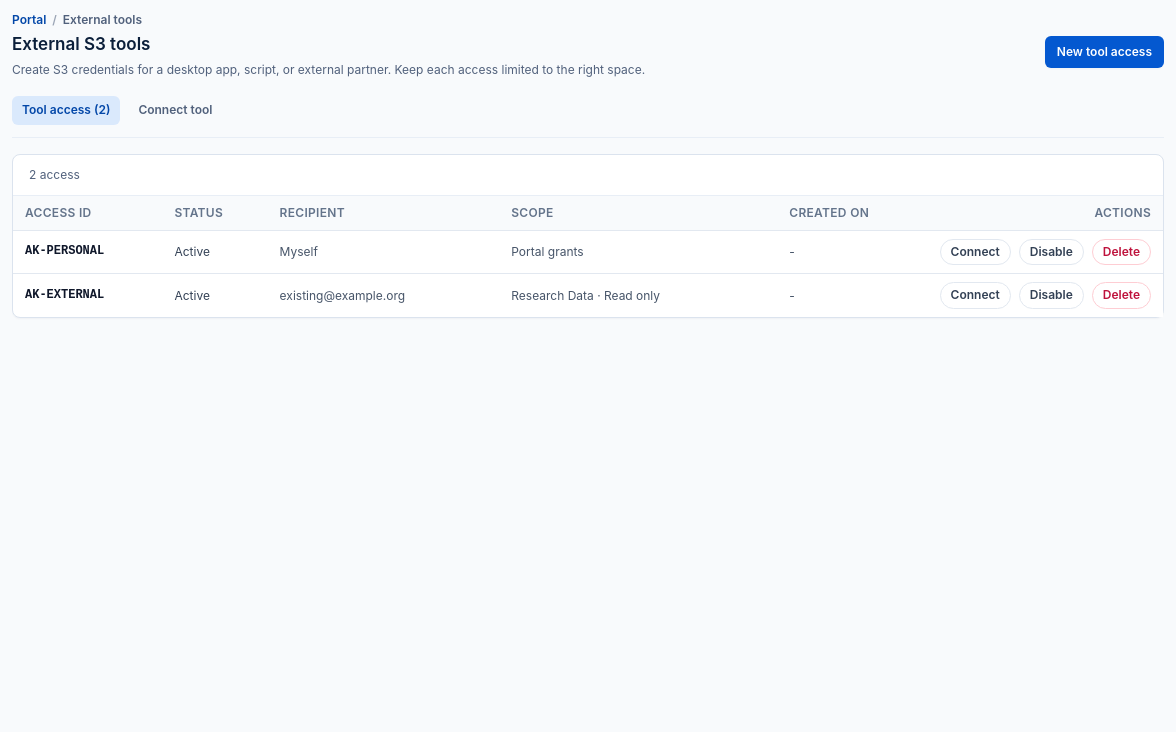
PortalAccessKeysPage › limits only the personal IAM user when the create workflow opens
Click the button "New tool access" at {"x": 1104, "y": 52}, box [1045, 36, 1164, 68]
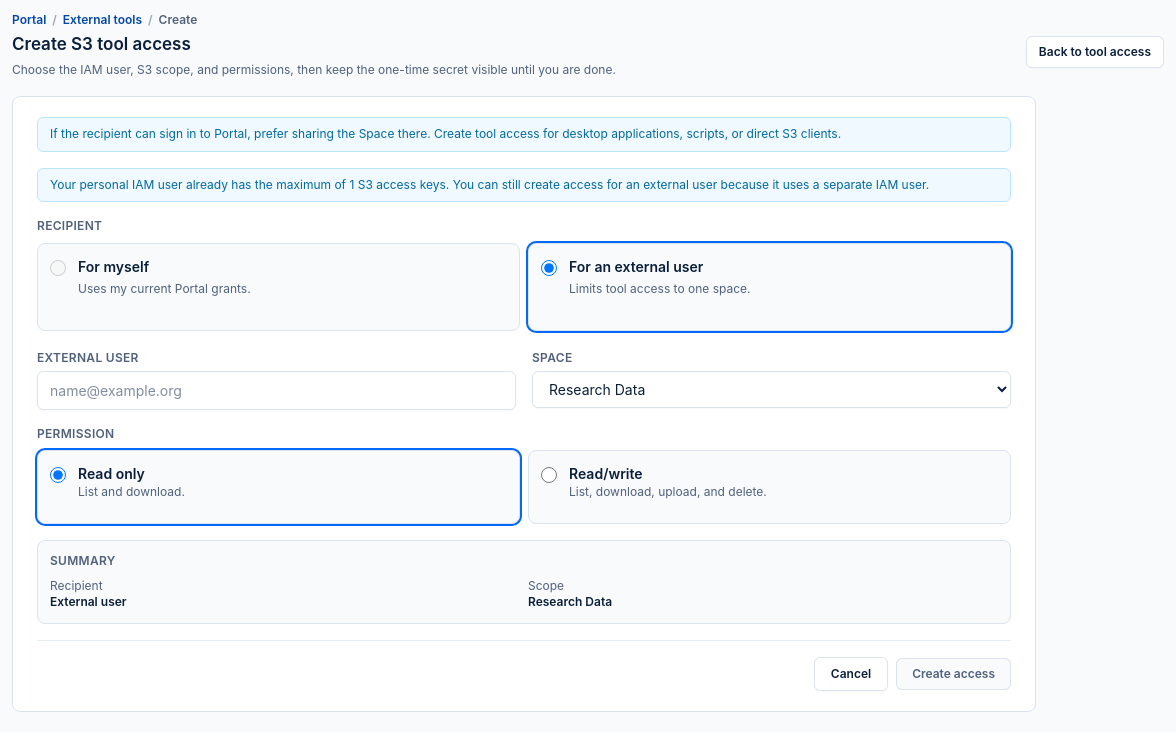
Now the radio button labelled "For myself" is disabled, box [50, 260, 66, 276]
Now the radio button labelled "For an external user" is checked, box [541, 260, 557, 276]
Now the text "personal IAM user already has the maximum of 1 S3 access keys" is shown, box [50, 176, 929, 192]
Type "new-partner@example.org" into the field with placeholder "name@example.org" at {"x": 276, "y": 390}, box [37, 370, 516, 410]
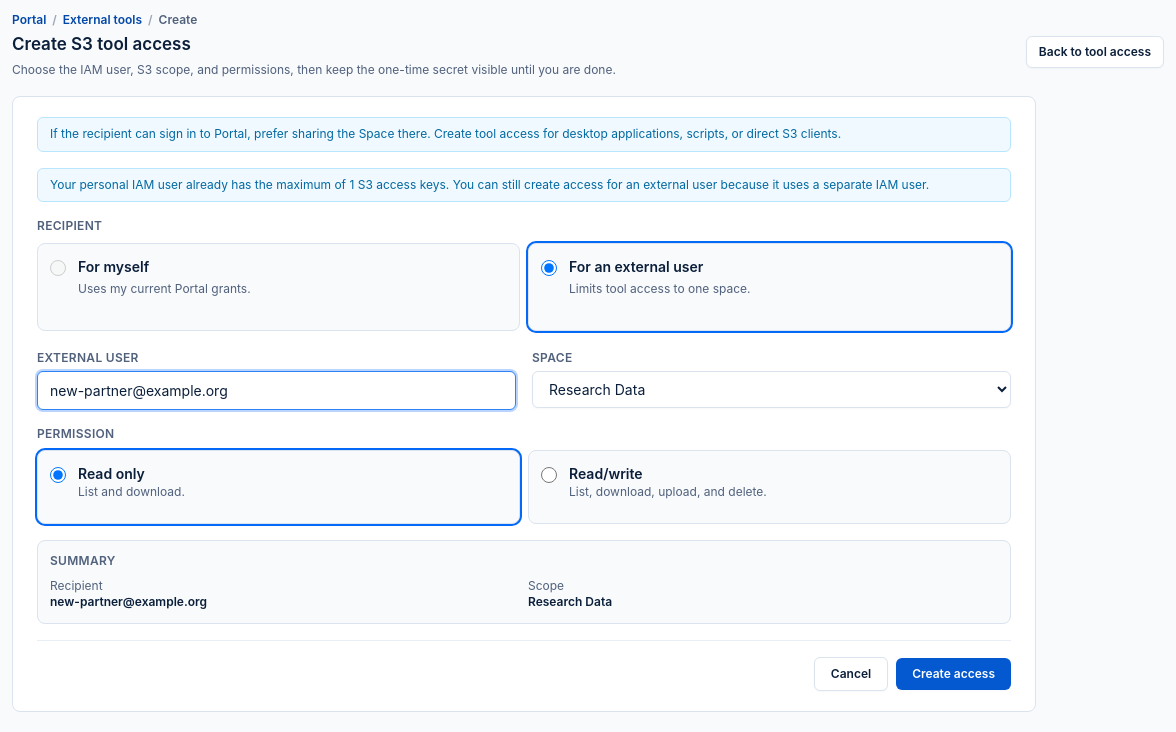
Now the button "Create access" is enabled, box [896, 658, 1011, 690]
